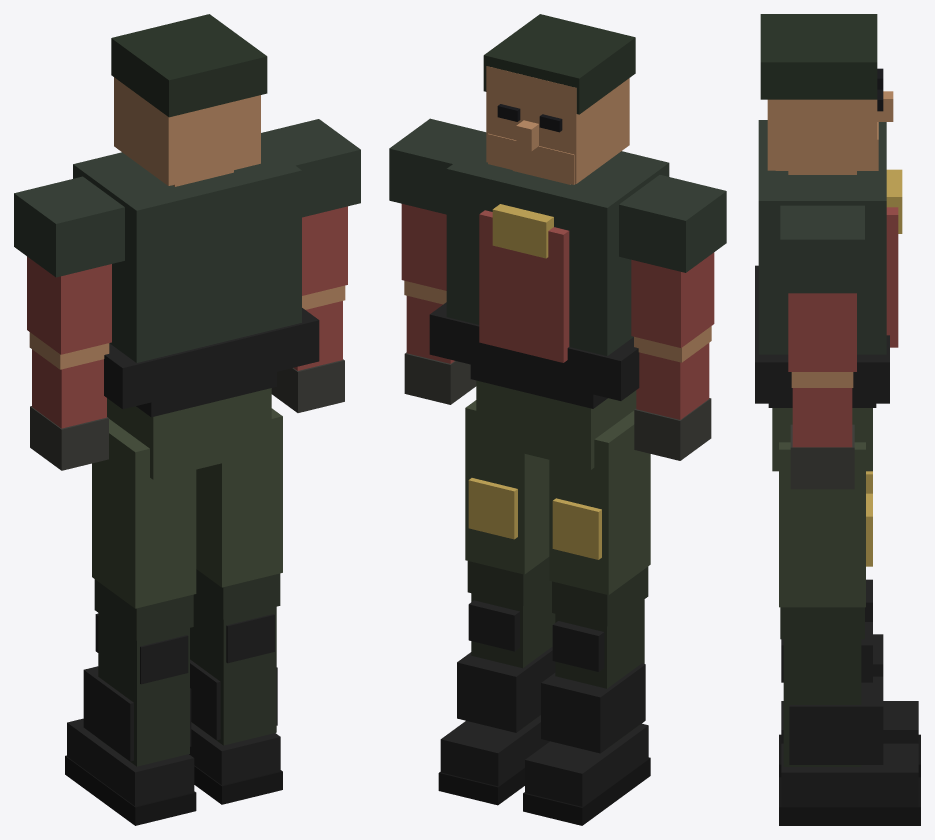
File: player.obj
The picture shows the model from 3 angles, left to right: view 1: azimuth 30°, elevation 25°; view 2: azimuth 150°, elevation 25°; view 3: azimuth 270°, elevation 25°; orthographic projection. The views are drawn at different scales.
Visible parts, largest first — view 1: Chest_0, Head_0, ThighL_0, UpperArmL_0, ThighR_0, ShinL_0, Hips_0, UpperArmR_0, ShinR_0, FootL_0, ForearmL_0, FootR_0 (+1 smaller); view 2: Chest_0, Head_0, ThighL_0, UpperArmL_0, ThighR_0, Hips_0, ShinL_0, UpperArmR_0, ShinR_0, FootL_0, ForearmL_0, FootR_0 (+1 smaller); view 3: Chest_0, Head_0, ThighR_0, UpperArmR_0, ShinR_0, FootR_0, ForearmR_0, Hips_0, FootL_0, ThighL_0, ShinL_0.
Boxes of the visible parts, x1,y1,x2,y2 form: Chest_0: (73,141,319,409); Head_0: (111,14,267,185); ThighL_0: (92,419,196,684); UpperArmL_0: (14,176,124,369); ThighR_0: (193,408,282,663); ShinL_0: (83,613,191,766); Hips_0: (107,372,276,479); UpperArmR_0: (261,119,360,309); ShinR_0: (190,598,277,745); FootL_0: (65,718,196,825); ForearmL_0: (30,349,108,470); FootR_0: (189,722,282,804); Chest_0: (429,140,669,400); Head_0: (483,14,635,184); ThighL_0: (549,410,650,671); UpperArmL_0: (619,175,726,362); ThighR_0: (465,400,551,651); Hips_0: (470,364,636,469); ShinL_0: (541,599,645,753); UpperArmR_0: (389,118,486,304); ShinR_0: (457,585,555,732); FootL_0: (523,723,650,825); ForearmL_0: (634,343,711,460); FootR_0: (438,715,549,805); Chest_0: (755,120,902,403); Head_0: (760,14,893,170); ThighR_0: (779,442,872,682); UpperArmR_0: (780,205,864,387); ShinR_0: (783,639,883,766); FootR_0: (779,743,920,825); ForearmR_0: (790,388,854,489); Hips_0: (768,403,876,471); FootL_0: (779,701,920,777); ThighL_0: (865,471,872,621); ShinL_0: (873,634,883,676).
Size of the model in its own units: 0.775 by 1.81 by 0.3625.
